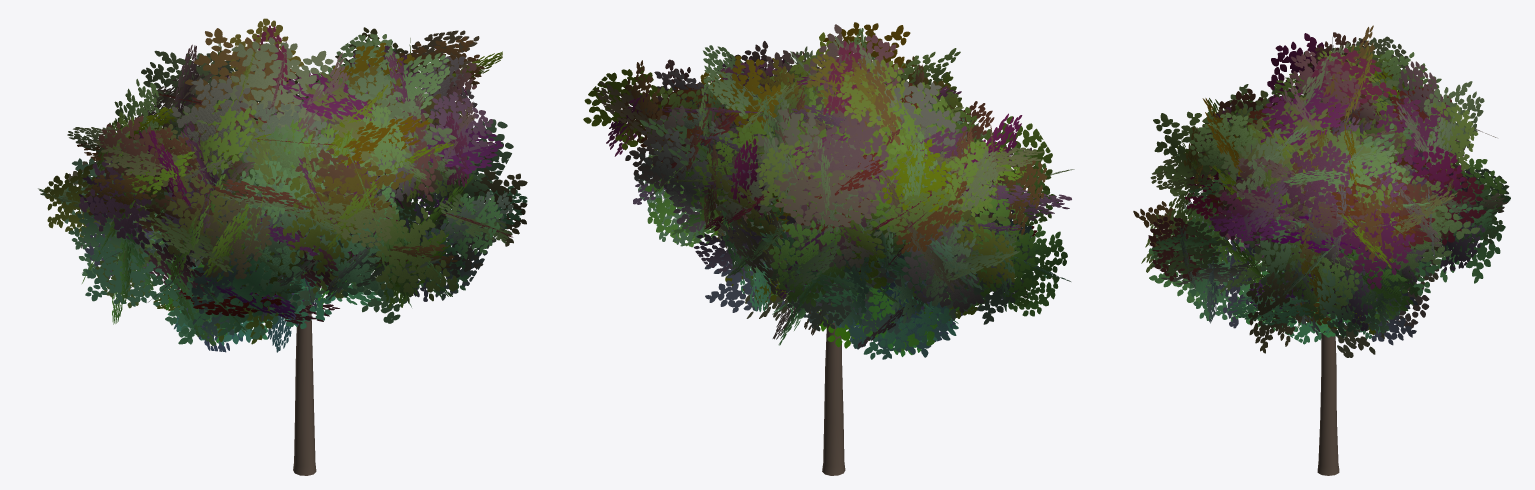
The model's file is tree_small_broadleaf_v3_filler_b.glb.
3 views of the same model, side by side, from view 1: azimuth 30°, elevation 25°; view 2: azimuth 150°, elevation 25°; view 3: azimuth 270°, elevation 25° (orthographic). The views are drawn at different scales.
Visible parts, largest first — view 1: SmallBroadleafV3Filler_offset_Foliage_8MacroGroups, SmallBroadleafV3Filler_offset_Trunk_Stylized; view 2: SmallBroadleafV3Filler_offset_Foliage_8MacroGroups, SmallBroadleafV3Filler_offset_Trunk_Stylized; view 3: SmallBroadleafV3Filler_offset_Foliage_8MacroGroups, SmallBroadleafV3Filler_offset_Trunk_Stylized.
Part boxes in pixels (<box>): SmallBroadleafV3Filler_offset_Foliage_8MacroGroups: <box>38,18,527,352</box>; SmallBroadleafV3Filler_offset_Trunk_Stylized: <box>293,286,316,475</box>; SmallBroadleafV3Filler_offset_Foliage_8MacroGroups: <box>583,22,1074,359</box>; SmallBroadleafV3Filler_offset_Trunk_Stylized: <box>822,322,845,475</box>; SmallBroadleafV3Filler_offset_Foliage_8MacroGroups: <box>1133,25,1510,357</box>; SmallBroadleafV3Filler_offset_Trunk_Stylized: <box>1317,316,1339,475</box>.
Bounding box in the file's own units: 6.74 × 6.11 × 5.17.
2 materials, 1 textured.
